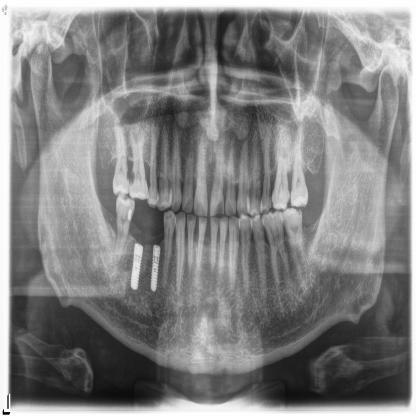ITI: (128, 240, 144, 290), (150, 244, 162, 292)
